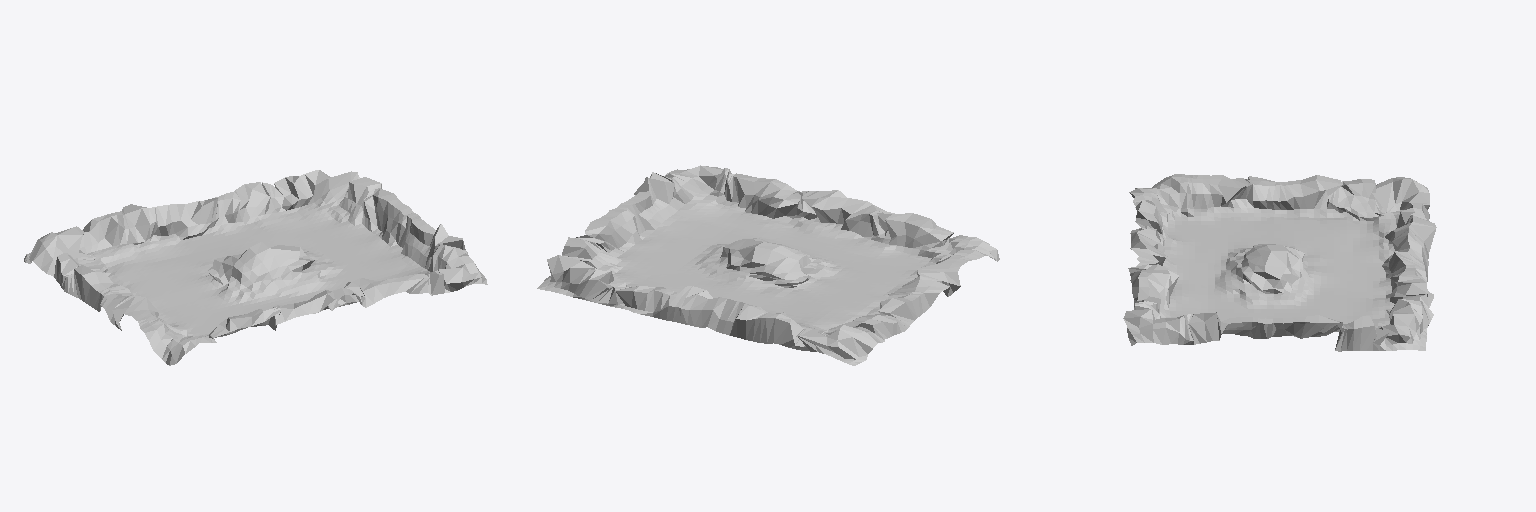
File: testtrack.obj
3 renders of one model, left to right at view 1: azimuth 30°, elevation 25°; view 2: azimuth 150°, elevation 25°; view 3: azimuth 270°, elevation 25°, orthographic.
Visible parts, largest first — view 1: Plane; view 2: Plane; view 3: Plane.
Part boxes in pixels (bbox=[...]): Plane: bbox=[24, 170, 487, 365]; Plane: bbox=[537, 165, 999, 365]; Plane: bbox=[1123, 174, 1436, 351].
Size of the model in its own units: 22.57 by 2.36 by 18.38.